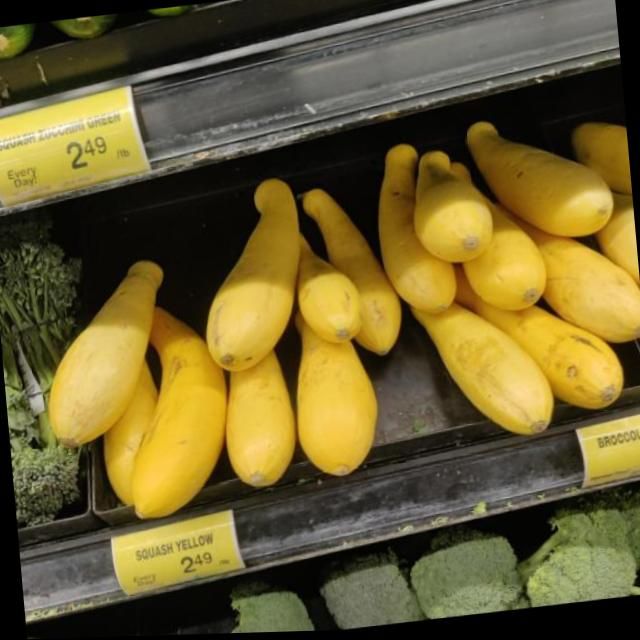Broccoli: (408, 520, 530, 623), (520, 509, 638, 610), (318, 545, 422, 633), (201, 574, 320, 635)
Squash: (38, 257, 178, 450), (115, 299, 235, 523), (193, 177, 311, 376), (465, 110, 616, 252), (298, 181, 407, 364), (410, 147, 496, 269)
